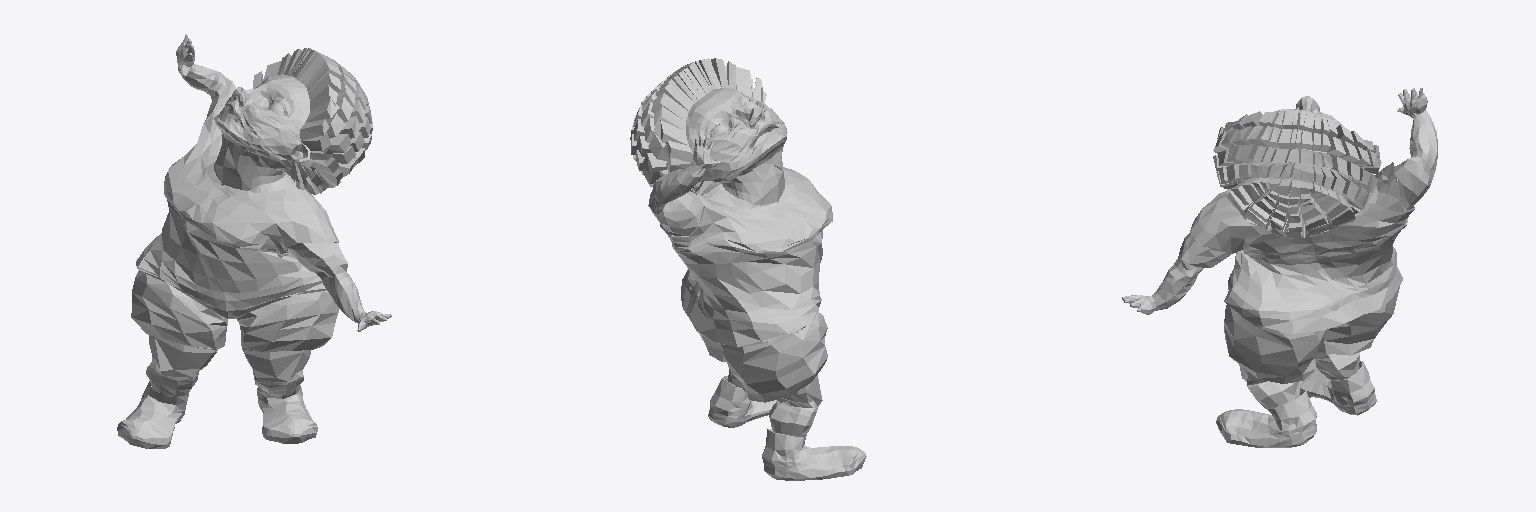
The model's file is Little Boy look Up.obj.
3 renders of one model, left to right at view 1: azimuth 30°, elevation 25°; view 2: azimuth 150°, elevation 25°; view 3: azimuth 270°, elevation 25°, orthographic.
Visible parts, largest first — view 1: Geo Shirt, Geo Pants, Face Geo, Geo hair, Geo Shoes, Geo Legs, Geo Arms; view 2: Geo Shirt, Face Geo, Geo hair, Geo Pants, Geo Shoes, Geo Arms, Geo Legs; view 3: Geo Shirt, Geo hair, Geo Pants, Geo Arms, Geo Shoes, Geo Legs, Face Geo.
Part boxes in pixels (left/top/right/bottom): Geo Shirt: left=136, top=102, right=338, bottom=311; Geo Pants: left=131, top=270, right=338, bottom=351; Face Geo: left=214, top=74, right=310, bottom=192; Geo hair: left=253, top=48, right=372, bottom=194; Geo Shoes: left=117, top=381, right=317, bottom=448; Geo Legs: left=146, top=335, right=310, bottom=396; Geo Arms: left=176, top=34, right=391, bottom=331; Geo Shirt: left=660, top=167, right=832, bottom=347; Face Geo: left=686, top=88, right=787, bottom=208; Geo hair: left=630, top=58, right=766, bottom=195; Geo Pants: left=690, top=287, right=827, bottom=402; Geo Shoes: left=708, top=376, right=866, bottom=480; Geo Arms: left=648, top=136, right=721, bottom=235; Geo Legs: left=728, top=369, right=822, bottom=436; Geo Shirt: left=1190, top=162, right=1414, bottom=333; Geo hair: left=1213, top=110, right=1381, bottom=238; Geo Pants: left=1224, top=286, right=1399, bottom=383; Geo Arms: left=1122, top=88, right=1437, bottom=314; Geo Shoes: left=1216, top=361, right=1376, bottom=447; Geo Legs: left=1239, top=350, right=1359, bottom=409; Face Geo: left=1243, top=96, right=1371, bottom=203.
Size of the model in its own units: 26.9 by 40.98 by 32.6.